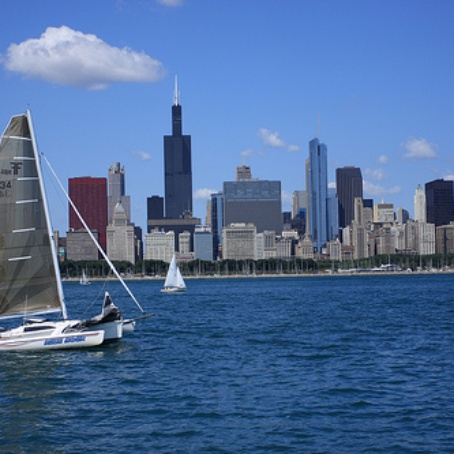boat: (1, 113, 145, 352), (162, 253, 186, 296)
building: (154, 84, 198, 254), (210, 161, 284, 260), (297, 123, 337, 249), (63, 169, 114, 263), (413, 174, 454, 258)
sea: (1, 275, 452, 454)
sky: (1, 1, 447, 186)
